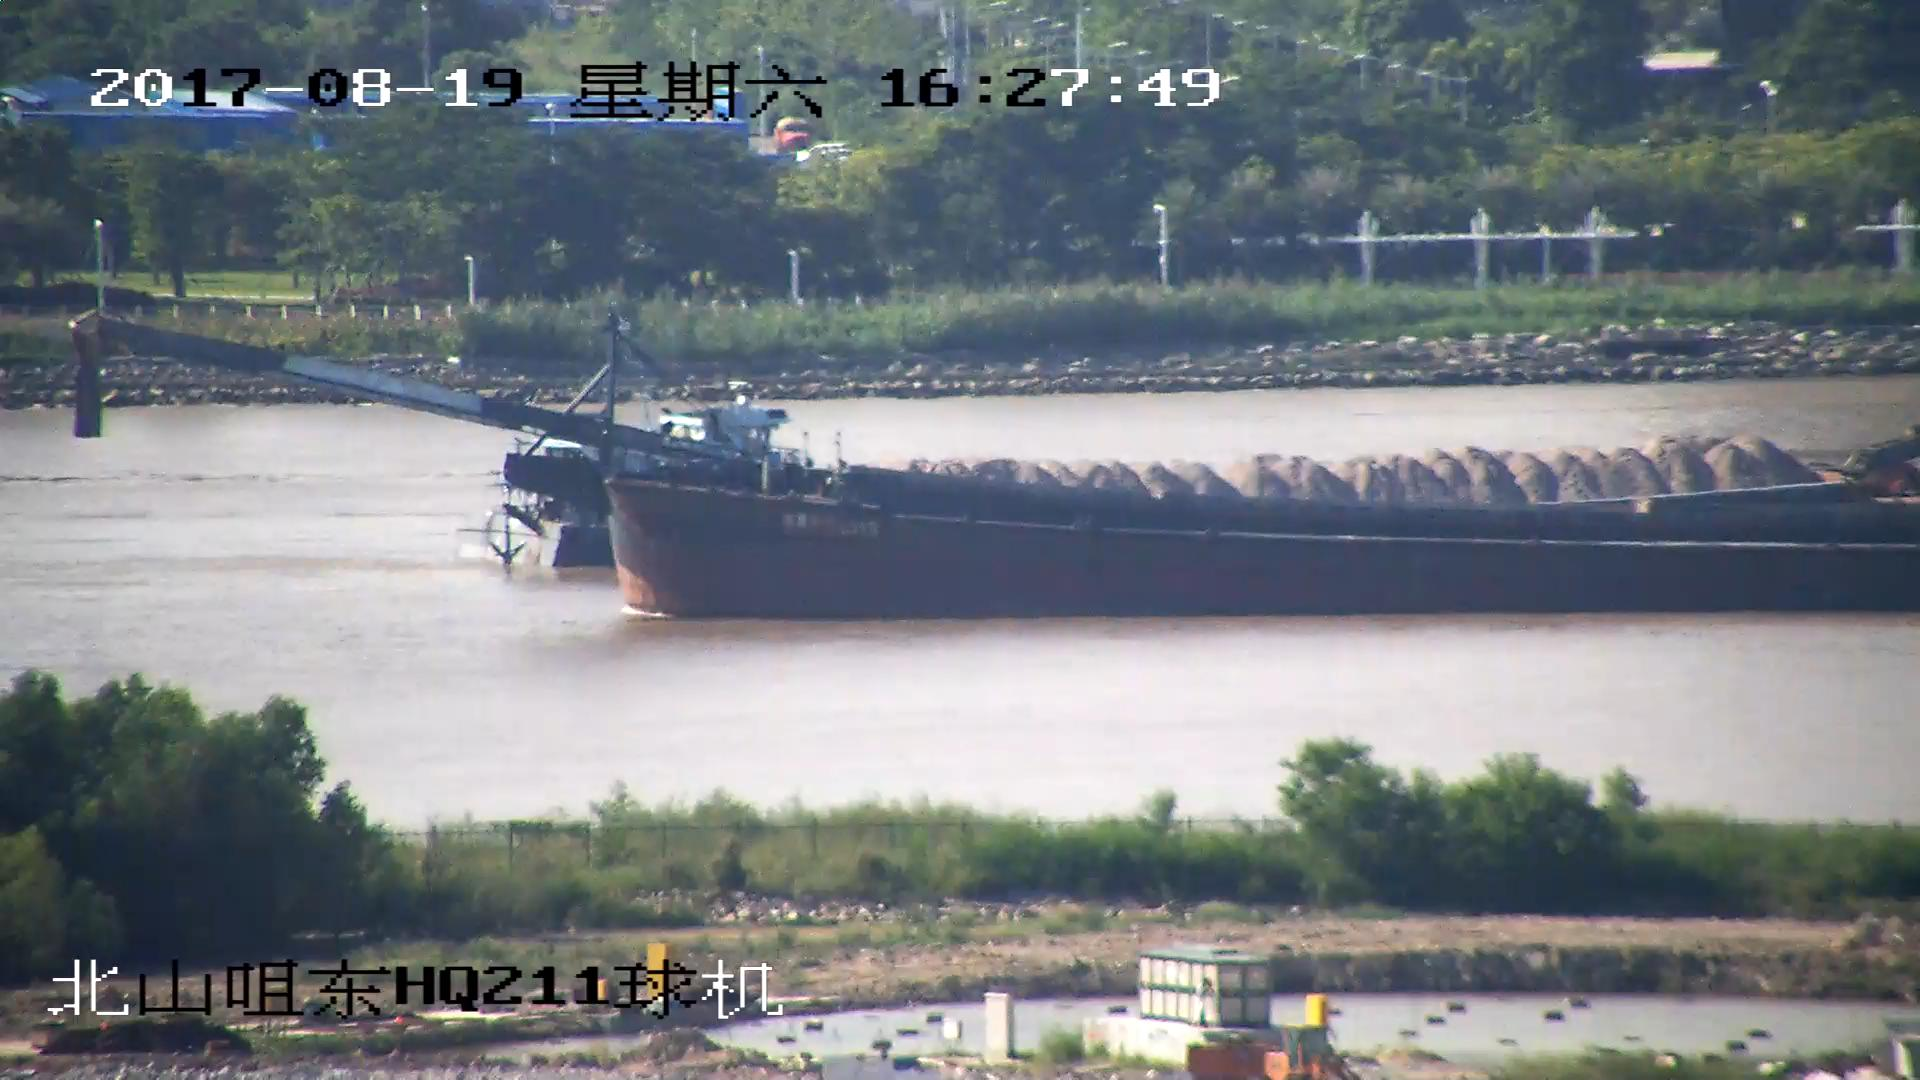bulk cargo carrier: (71, 316, 1919, 617)
ore carrier: (483, 438, 1920, 573)
